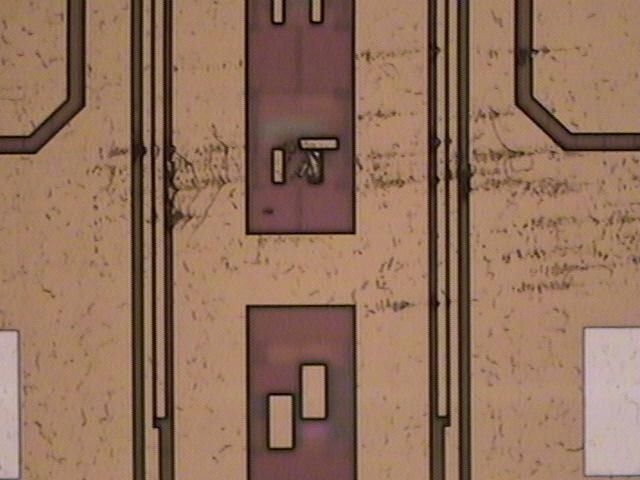SCRATCH: (95, 42, 640, 325)
